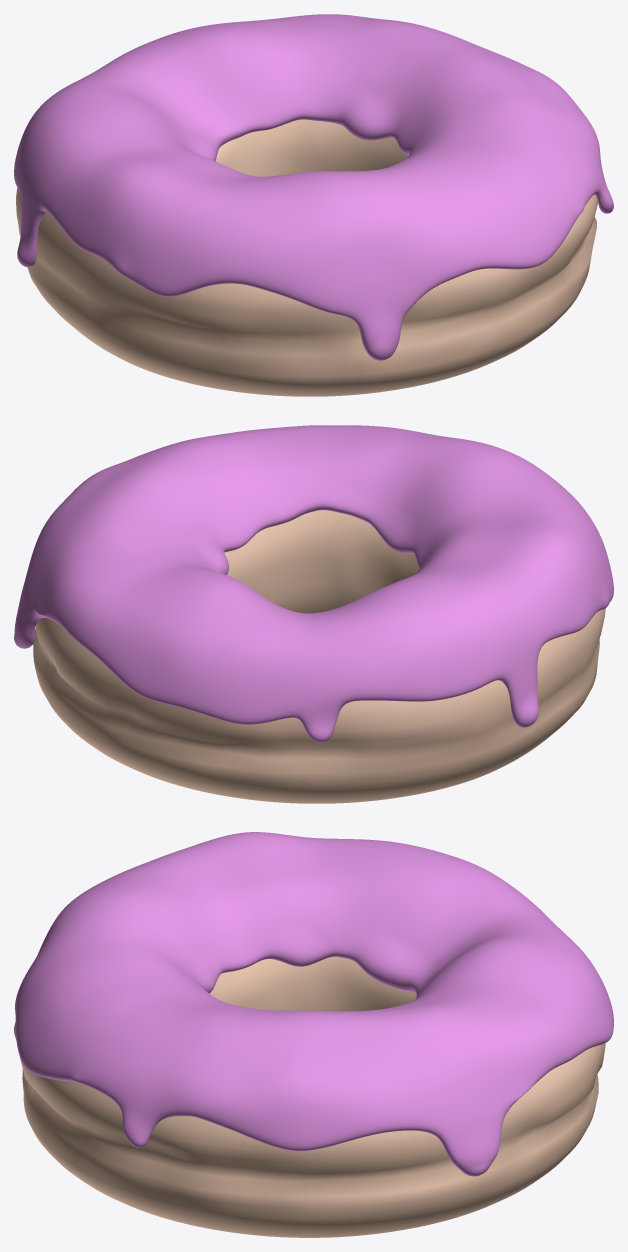
Rendered from donut.glb.
The picture shows the model from 3 angles, top to bottom: view 1: azimuth 30°, elevation 25°; view 2: azimuth 150°, elevation 25°; view 3: azimuth 270°, elevation 25°; orthographic projection. The views are drawn at different scales.
Parts seen in each view (by area): view 1: Icing, Donut; view 2: Icing, Donut; view 3: Icing, Donut.
Part boxes in pixels (x1=…): Icing: x1=14, y1=14, x2=613, y2=360; Donut: x1=16, y1=119, x2=597, y2=396; Icing: x1=14, y1=425, x2=613, y2=742; Donut: x1=33, y1=510, x2=605, y2=803; Icing: x1=14, y1=832, x2=613, y2=1176; Donut: x1=20, y1=957, x2=605, y2=1237.
Size of what is drawn, in the model's own units: 0.1471 by 0.0571 by 0.1461.
